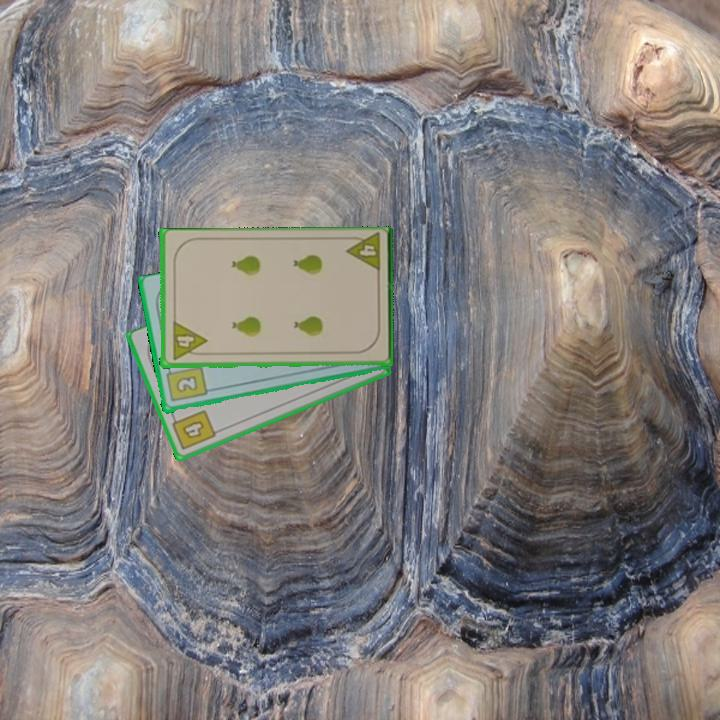2b: (163, 363, 209, 405)
4b: (168, 406, 219, 453)
4p: (342, 232, 383, 276), (168, 319, 208, 363)
